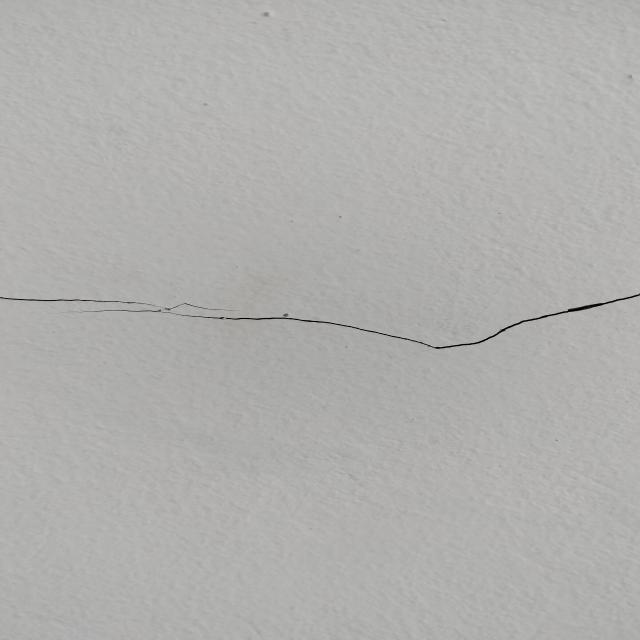Crack: (0, 287, 640, 353)
